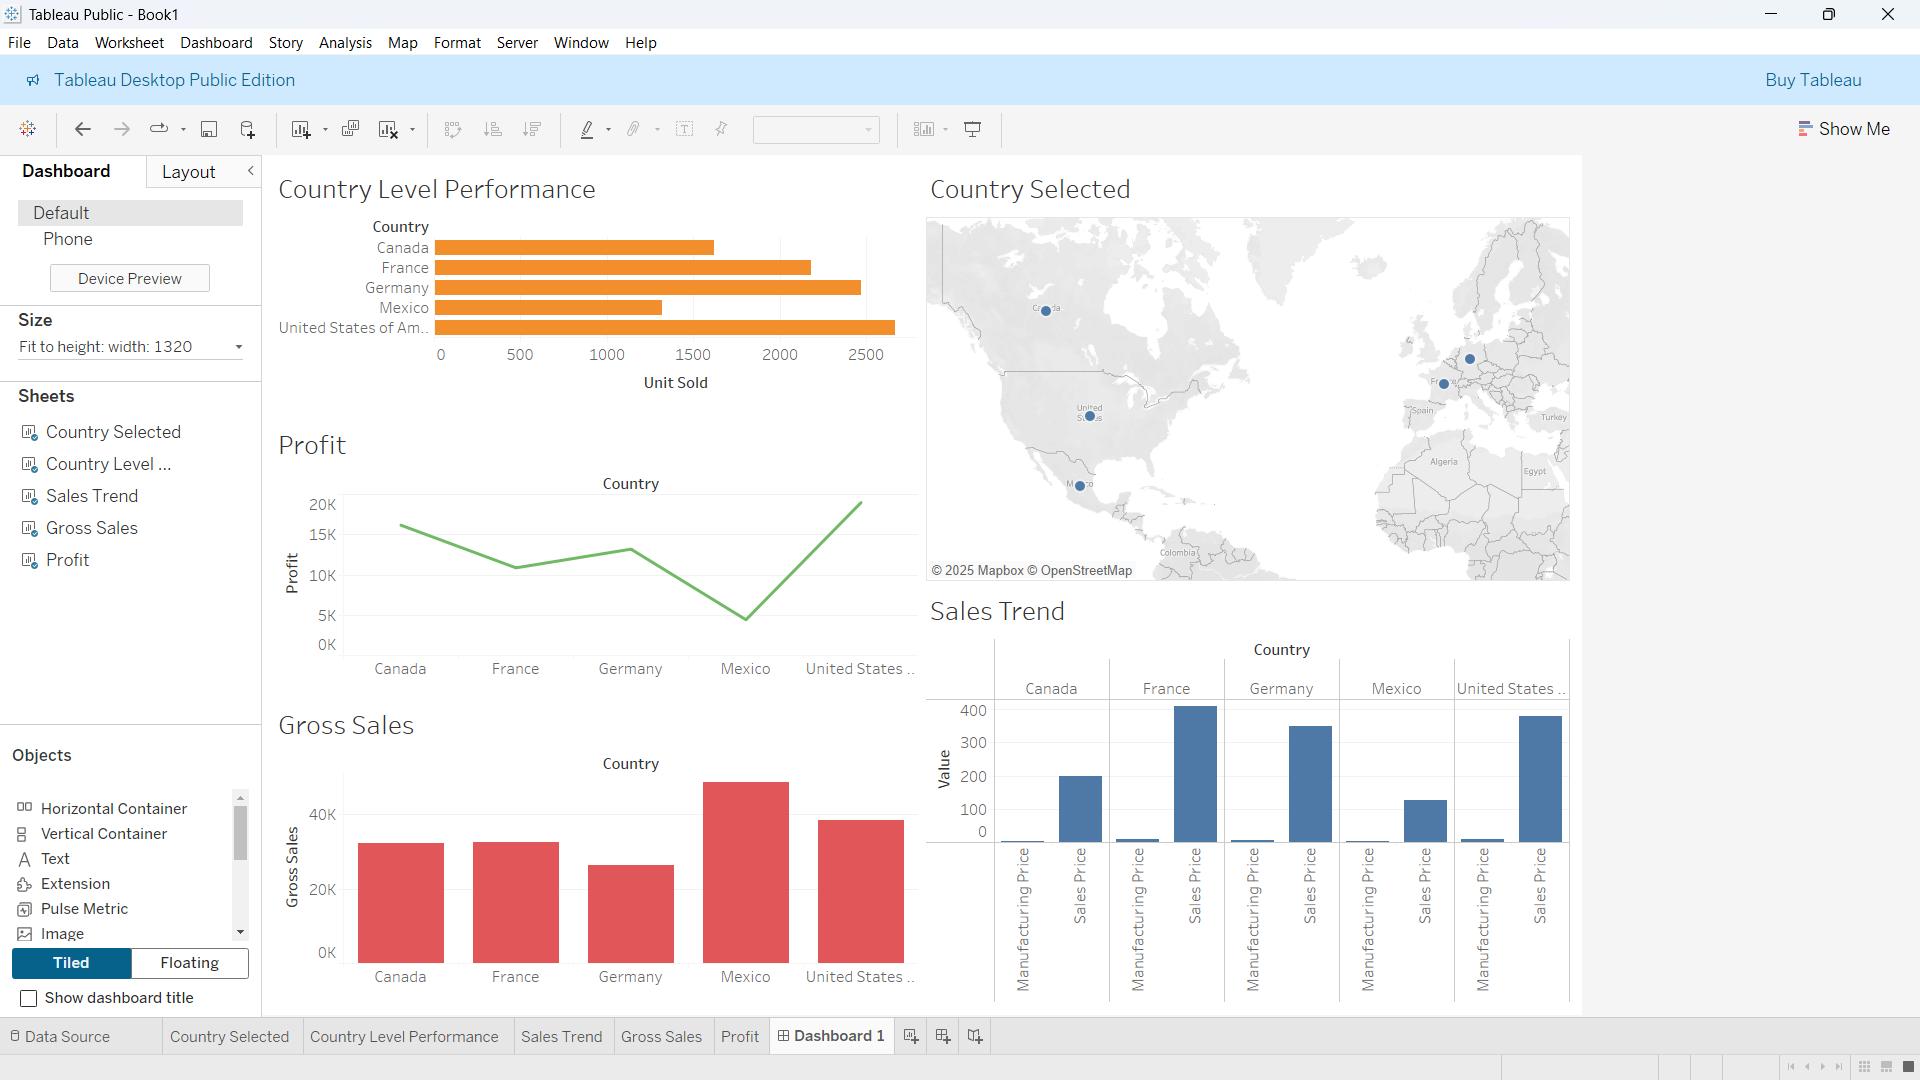

This screenshot's page, from the dashboard's own definition file:
{"tool":"tableau","page":{"name":"Dashboard 1","canvas":[1000,1000],"units":"permille","ordinal":0},"visuals":[{"type":"worksheet","title":"Country Level Performance","mark":"Bar","rows":["COUNTRY"],"cols":["UNIT SOLD"],"box":[6.1,9.3,493.9,297.7]},{"type":"worksheet","title":"Country Selected","mark":"Automatic","box":[500,9.3,493.9,490.7]},{"type":"worksheet","title":"Profit","mark":"Line","rows":["PROFIT"],"cols":["COUNTRY"],"box":[6.1,307,493.9,325.6]},{"type":"worksheet","title":"Sales Trend","mark":"Automatic","cols":["COUNTRY"],"box":[500,500,493.9,490.7]},{"type":"worksheet","title":"Gross Sales","mark":"Bar","rows":["GROSS SALES"],"cols":["COUNTRY"],"box":[6.1,632.6,493.9,358.1]}]}

Visuals, with their boxes on the dashboard's canvas, which has no fixed pixel size, in thousandths of its width and height (x1, y1, x2, y2). These are canvas units, not pixel positions in the 1920x1080 screenshot, which may show the page scaled, cropped or inside an application window:
"Country Level Performance" worksheet (Bar marks): 6, 9, 500, 307
"Country Selected" worksheet: 500, 9, 994, 500
"Profit" worksheet (Line marks): 6, 307, 500, 633
"Sales Trend" worksheet: 500, 500, 994, 991
"Gross Sales" worksheet (Bar marks): 6, 633, 500, 991
